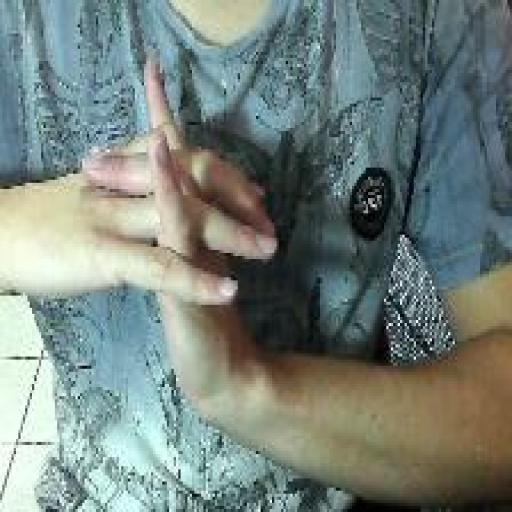Ushi -ox-: (79, 55, 282, 451)
